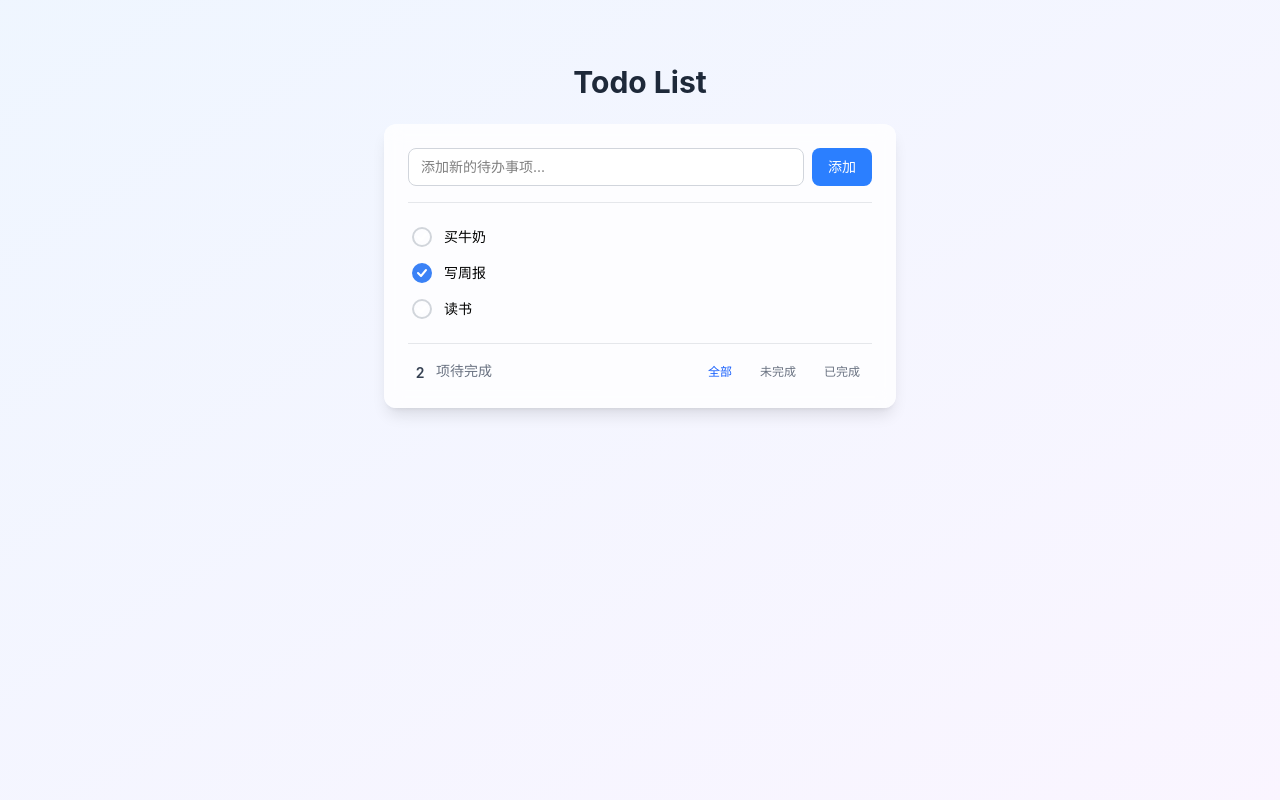
F5: 列表重排动画 › 筛选切换触发重排 › should filter to show only active todos when "未完成" is clicked
expect the text "买牛奶" is shown: met, box [444,228,486,245]
expect the text "写周报" is shown: met, box [444,264,486,281]
Click "未完成" filter
Click the button "未完成": (778,372) [748,360,808,384]
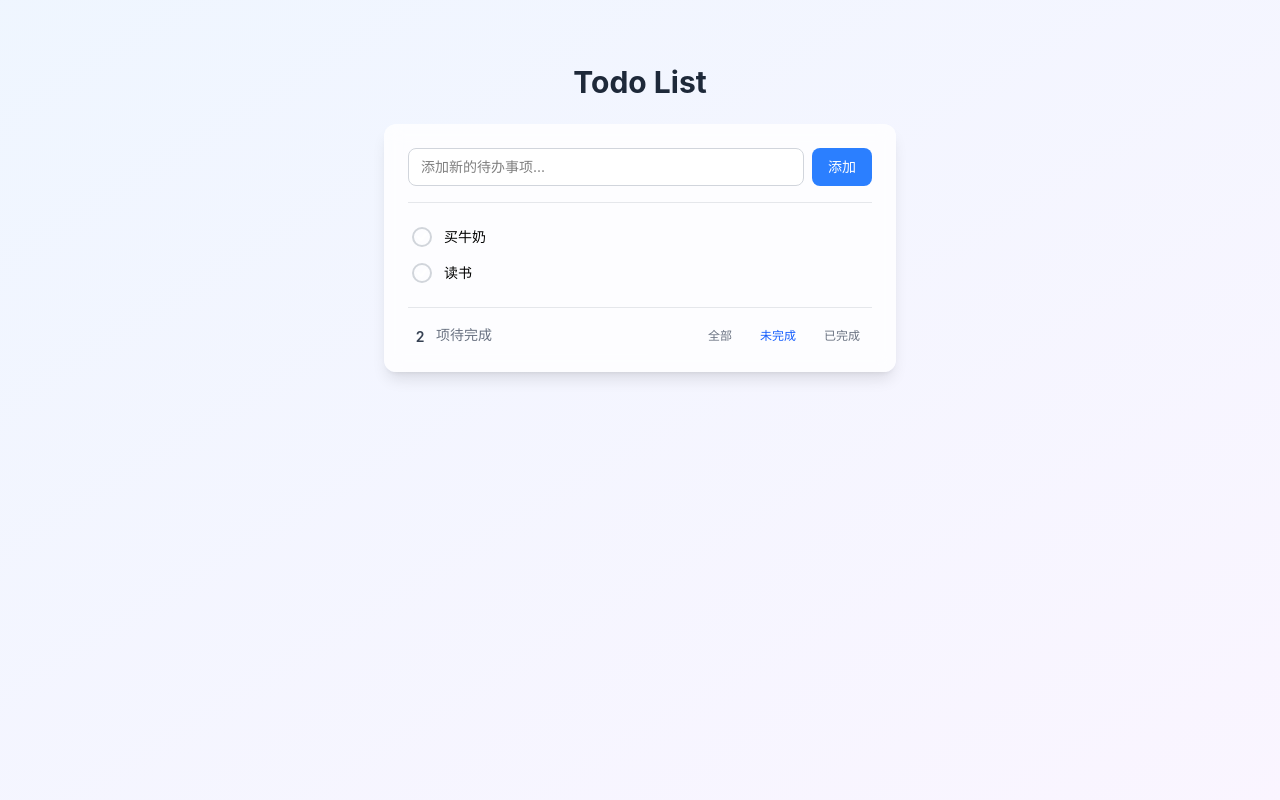
expect the text "买牛奶" is shown: met, box [444,228,486,245]
expect the text "写周报" is gone: met
